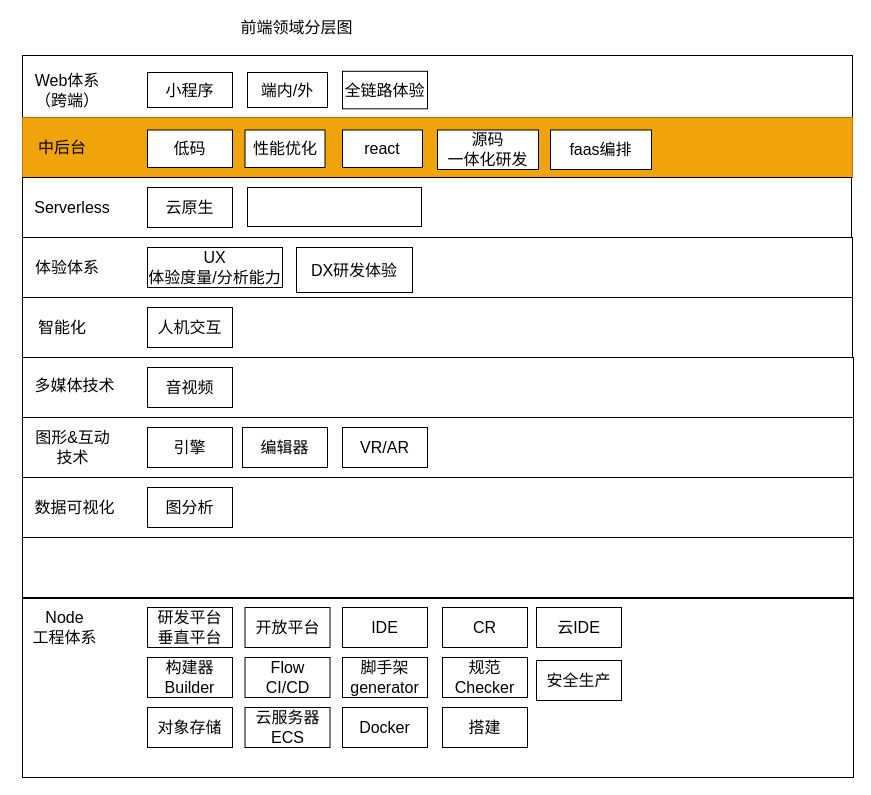
The diagram is 871 pixels wide and 795 high, and some of its shapes have lost their labels. Here are the shapes that lost their labels. From the top down, the centre of each, then its label:
the point at 334,206: 运维 切流/限流/监控/日志
the point at 438,567: IOT
